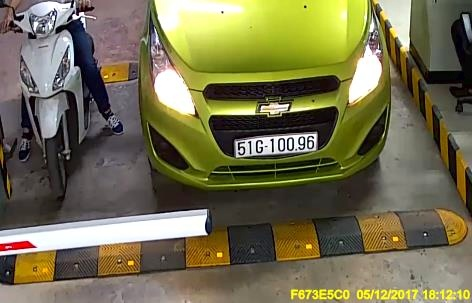plate: (233, 132, 319, 159)
